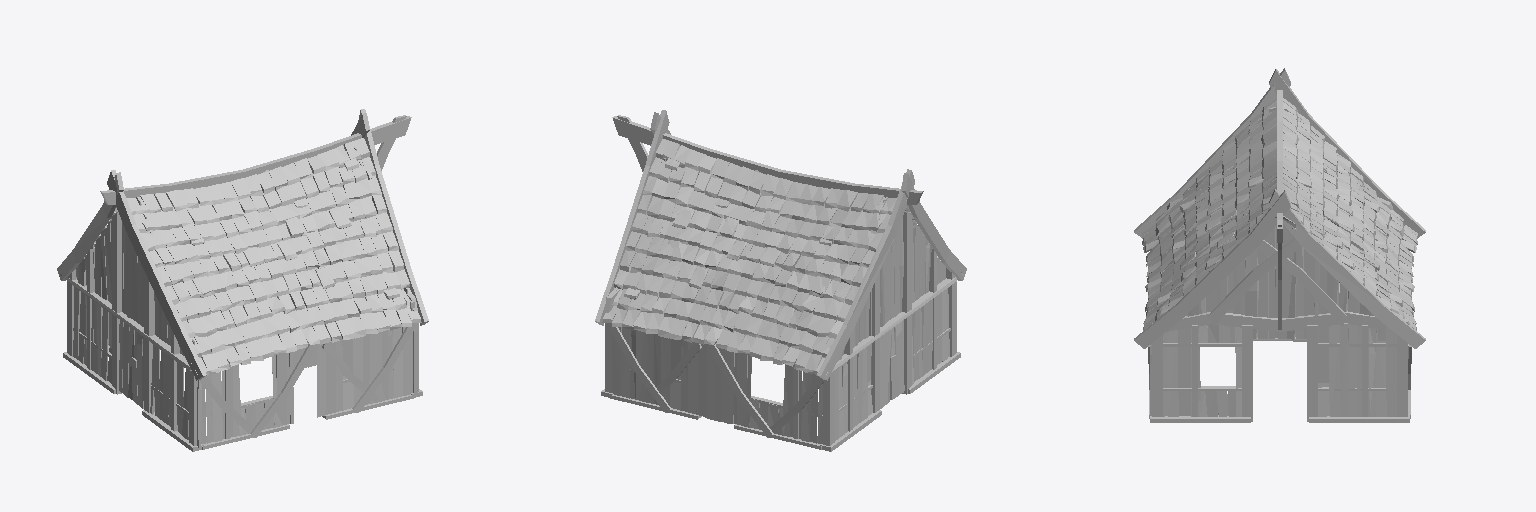
Rendered from hunter.obj.
3 renders of one model, left to right at view 1: azimuth 30°, elevation 25°; view 2: azimuth 150°, elevation 25°; view 3: azimuth 270°, elevation 25°, orthographic.
Visible parts, largest first — view 1: Cube_Cube.006, construction.003_Cube.016, Cube.005_Cube.022, Cube.004, Cube.009_Cube.005, Cube.003_Cube.002, construction.006_Cube.001; view 2: Cube_Cube.006, construction.003_Cube.016, Cube.005_Cube.022, Cube.004, Cube.009_Cube.005, Cube.003_Cube.002, construction.006_Cube.001; view 3: Cube_Cube.006, construction.003_Cube.016, Cube.004, Cube.005_Cube.022, Cube.003_Cube.002.
Part boxes in pixels (left/top/right/bottom): Cube_Cube.006: left=59, top=138, right=421, bottom=377; construction.003_Cube.016: left=73, top=146, right=417, bottom=447; Cube.005_Cube.022: left=63, top=212, right=422, bottom=451; Cube.004: left=57, top=109, right=428, bottom=380; Cube.009_Cube.005: left=199, top=323, right=415, bottom=437; Cube.003_Cube.002: left=190, top=151, right=399, bottom=326; construction.006_Cube.001: left=66, top=277, right=364, bottom=370; Cube_Cube.006: left=602, top=139, right=964, bottom=377; construction.003_Cube.016: left=612, top=158, right=949, bottom=443; Cube.005_Cube.022: left=601, top=212, right=960, bottom=451; Cube.004: left=595, top=110, right=966, bottom=380; Cube.009_Cube.005: left=608, top=323, right=824, bottom=437; Cube.003_Cube.002: left=624, top=151, right=833, bottom=326; construction.006_Cube.001: left=659, top=277, right=956, bottom=371; Cube_Cube.006: left=1142, top=97, right=1417, bottom=330; construction.003_Cube.016: left=1150, top=107, right=1398, bottom=416; Cube.004: left=1134, top=68, right=1425, bottom=348; Cube.005_Cube.022: left=1149, top=130, right=1410, bottom=422; Cube.003_Cube.002: left=1160, top=157, right=1399, bottom=314.
Bounding box in the file's own units: 13.55 × 9.98 × 11.12.